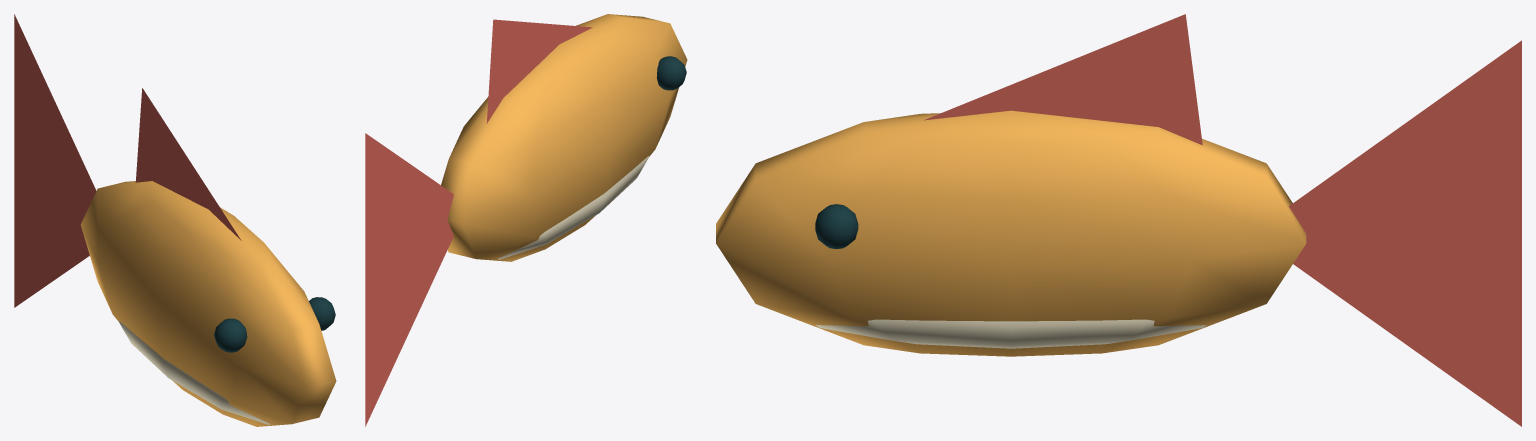
File: ocean-fish-0.glb
3 renders of one model, left to right at view 1: azimuth 30°, elevation 25°; view 2: azimuth 150°, elevation 25°; view 3: azimuth 270°, elevation 25°, orthographic. The views are drawn at different scales.
Visible parts, largest first — view 1: object 1, Tail, object 3, object 4, object 5, object 6; view 2: object 1, Tail, object 3, object 4, object 5; view 3: object 1, Tail, object 3, object 4, object 6.
Part boxes in pixels (left/top/right/bottom): object 1: left=80, top=181, right=336, bottom=426; Tail: left=14, top=14, right=96, bottom=307; object 3: left=135, top=88, right=241, bottom=240; object 4: left=119, top=321, right=270, bottom=424; object 5: left=214, top=318, right=247, bottom=352; object 6: left=309, top=297, right=335, bottom=330; object 1: left=441, top=14, right=687, bottom=261; Tail: left=365, top=133, right=453, bottom=426; object 3: left=486, top=19, right=592, bottom=123; object 4: left=498, top=156, right=649, bottom=259; object 5: left=657, top=56, right=686, bottom=90; object 1: left=716, top=110, right=1306, bottom=356; Tail: left=1289, top=40, right=1521, bottom=426; object 3: left=924, top=14, right=1202, bottom=145; object 4: left=816, top=319, right=1206, bottom=348; object 6: left=815, top=204, right=858, bottom=249.
Bounding box in the file's own units: 0.276 × 0.705 × 1.25.
